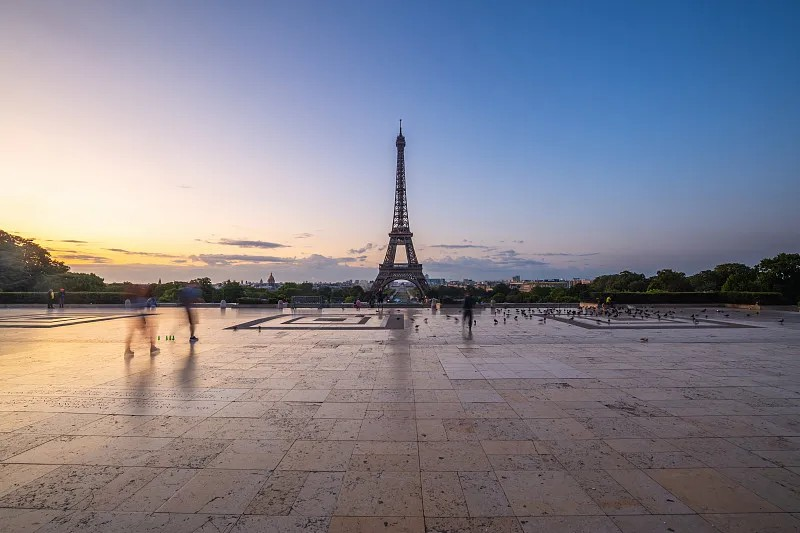Eiffel: (368, 119, 431, 303)
